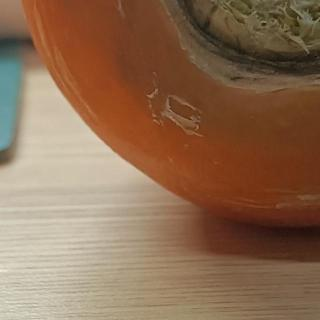carrot: (5, 0, 320, 235)
